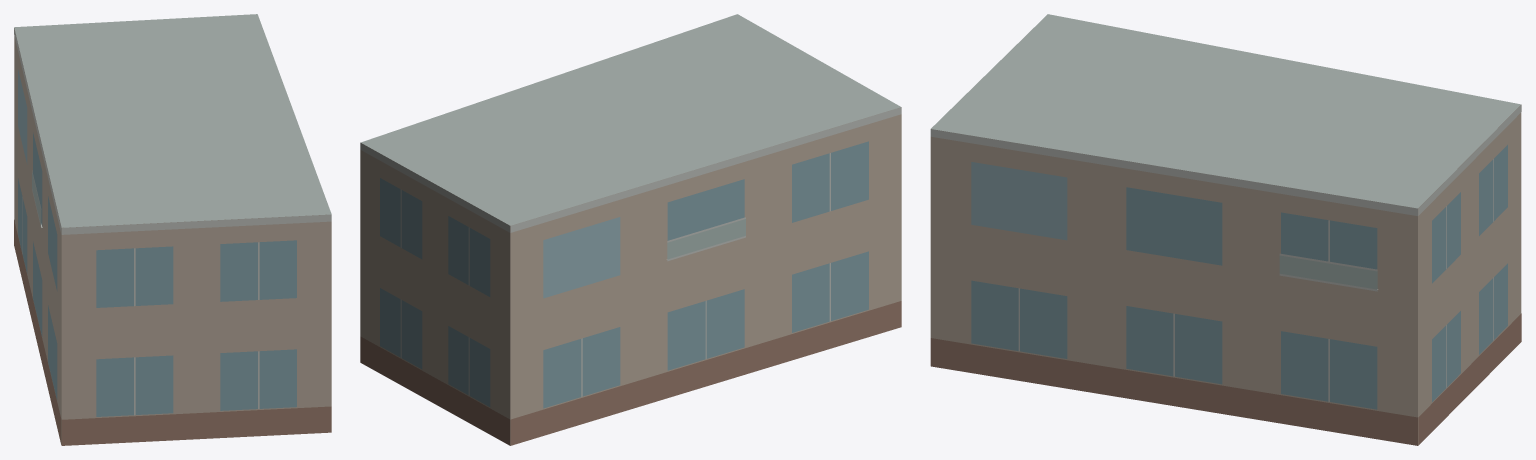
File: survey-upis-32740500.glb
The picture shows the model from 3 angles, left to right: view 1: azimuth 30°, elevation 25°; view 2: azimuth 150°, elevation 25°; view 3: azimuth 270°, elevation 25°; orthographic projection. The views are drawn at different scales.
Parts seen in each view (by area): view 1: survey-upis-32740500.tmp; view 2: survey-upis-32740500.tmp; view 3: survey-upis-32740500.tmp.
Boxes of the visible parts, x1=… form: survey-upis-32740500.tmp: x1=14, y1=14, x2=331, y2=445; survey-upis-32740500.tmp: x1=360, y1=14, x2=901, y2=445; survey-upis-32740500.tmp: x1=930, y1=14, x2=1521, y2=445.
Bounding box in the file's own units: 13.19 × 7.5 × 16.93.
